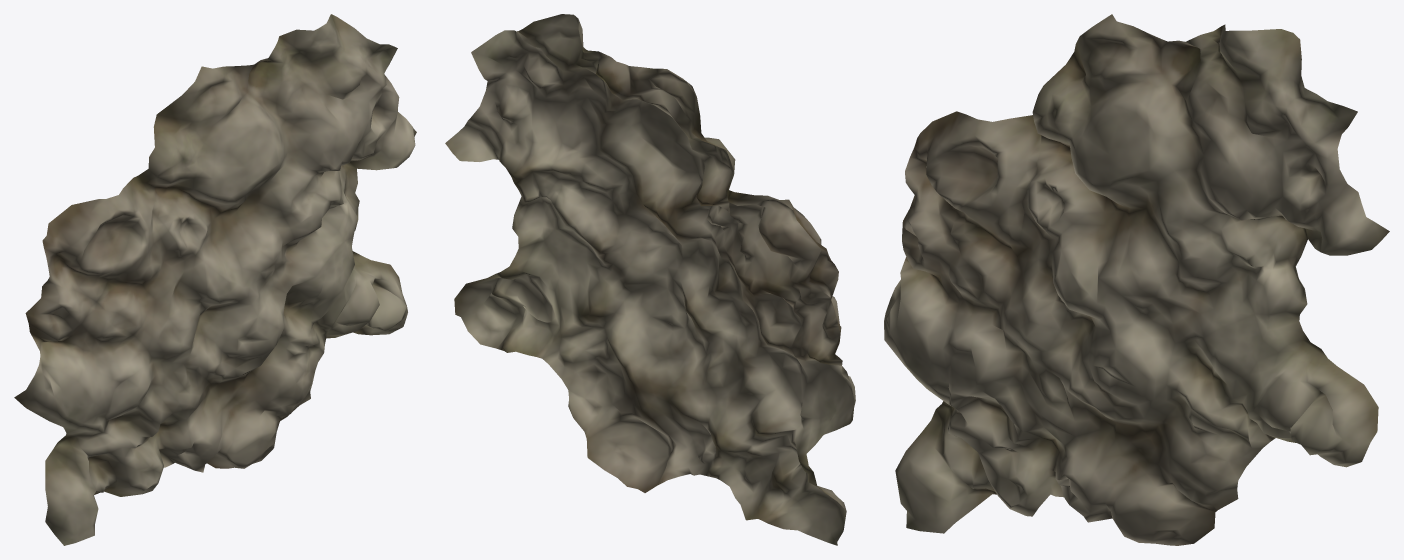
The model's file is Barnacle06.fbx.
3 views of the same model, side by side, from view 1: azimuth 30°, elevation 25°; view 2: azimuth 150°, elevation 25°; view 3: azimuth 330°, elevation 25° (orthographic). The views are drawn at different scales.
Visible parts, largest first — view 1: Barnacle06; view 2: Barnacle06; view 3: Barnacle06.
Boxes of the visible parts, x1,y1,x2,y2 form: Barnacle06: [14, 14, 416, 545]; Barnacle06: [445, 14, 855, 545]; Barnacle06: [884, 14, 1389, 545].
Bounding box in the file's own units: 68.63 × 74.7 × 10.27.
